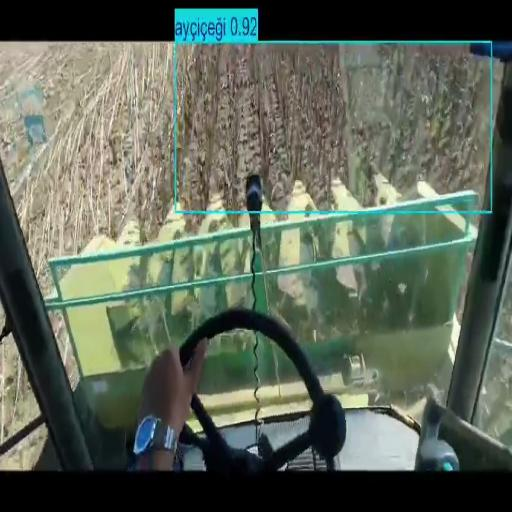ayc: (179, 46, 489, 210)
